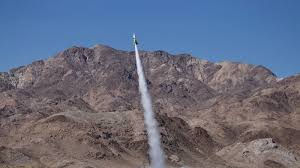ten_lua: (131, 31, 139, 51)
